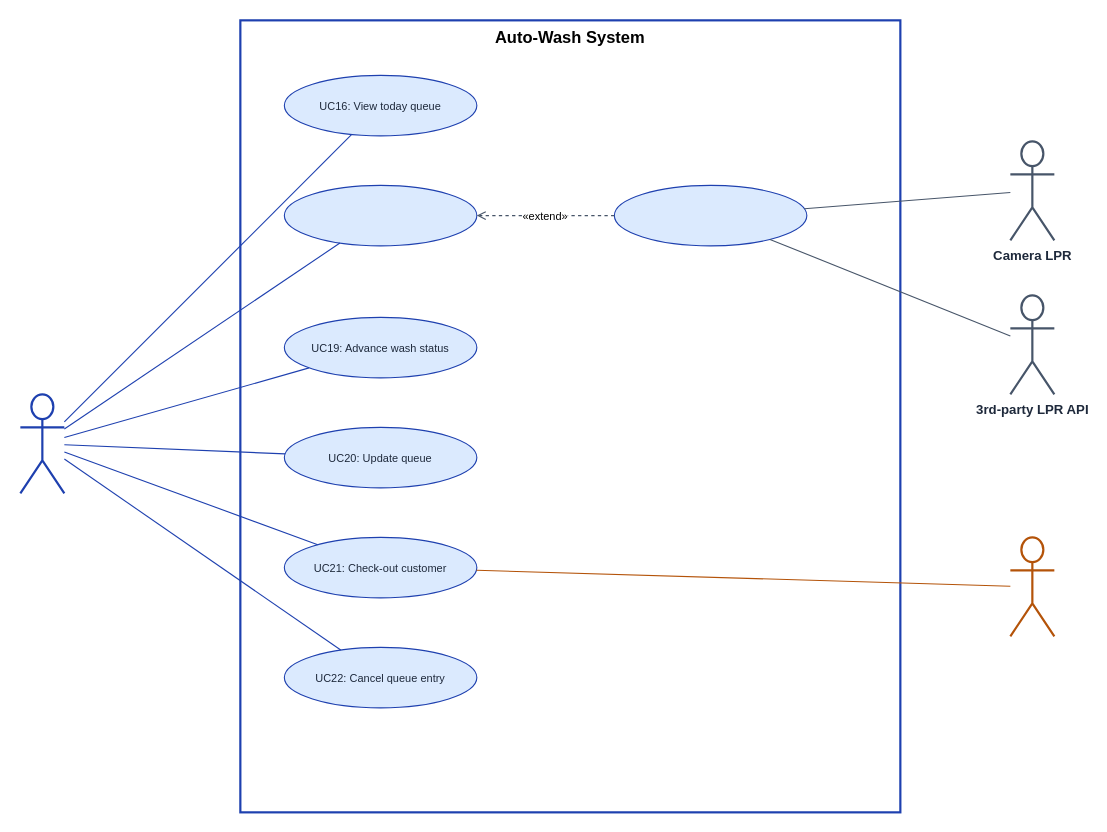
Image size: 1107x832. Some labels were removed from this diagram. The shapes that lost their labels are listed below. From the top down, each one's centre as x and y in pixels, then its label:
At (380,215): "UC17: Check-in customer".
At (710,215): "UC18: Scan license plate (LPR)".
At (42,443): "Staff".
At (1032,586): "Email SMTP".
